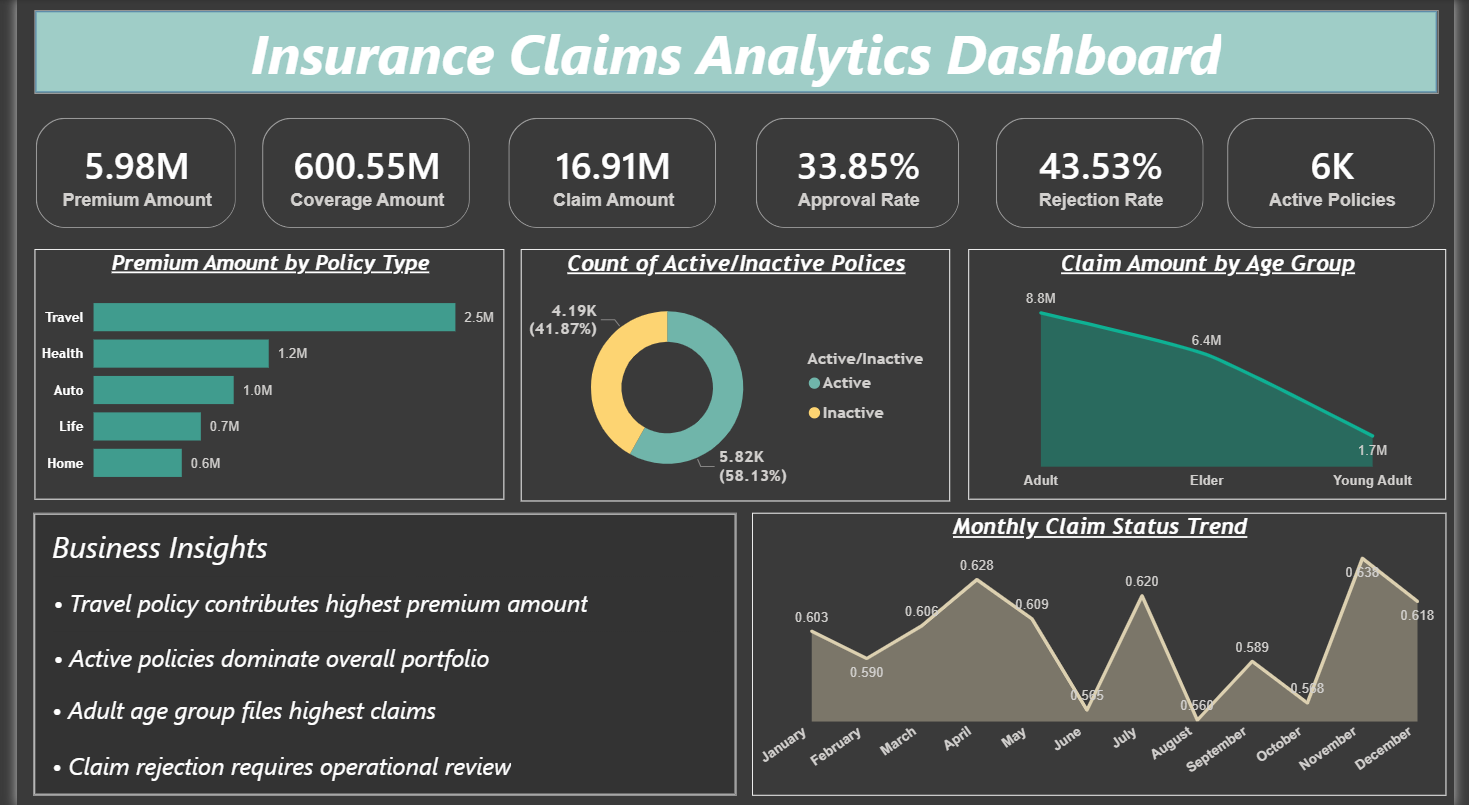

This screenshot's page, from the dashboard's own definition file:
{"tool":"powerbi","page":{"name":"Overview","canvas":[1280,720],"ordinal":0},"visuals":[{"type":"shape","box":[15.1,10.5,1250,74.4],"z":0},{"type":"cardVisual","fields":{"Data":["Sum(InsuranceData.PremiumAmount)"]},"box":[0,89.5,212.8,132.6],"z":1000},{"type":"cardVisual","fields":{"Data":["Sum(InsuranceData.ClaimAmount)"]},"box":[420.9,89.5,219.8,132.6],"z":2000},{"type":"cardVisual","fields":{"Data":["Sum(InsuranceData.CoverageAmount)"]},"box":[201.2,89.5,219.8,132.6],"z":3000},{"type":"cardVisual","fields":{"Data":["Measures Table.Claim Approval Rate"]},"box":[640.7,89.5,215.1,132.6],"z":4000},{"type":"cardVisual","fields":{"Data":["Measures Table.Active Policies"]},"box":[1060.5,89.5,219.8,132.6],"z":5000},{"type":"cardVisual","fields":{"Data":["Measures Table.Claim Rejection Rate"]},"box":[854.7,89.5,219.8,132.6],"z":6000},{"type":"barChart","title":"Premium Amount by Policy Type","fields":{"Y":["Sum(InsuranceData.PremiumAmount)"],"Category":["InsuranceData.PolicyType"]},"box":[15.1,222.1,418.6,223.3],"z":7000},{"type":"donutChart","title":"Count of Active/Inactive Polices","fields":{"Category":["InsuranceData.Active/Inactive"],"Y":["CountNonNull(InsuranceData.Active/Inactive)"]},"box":[448.8,222.1,382.6,224.4],"z":8000},{"type":"lineChart","title":"Claim Amount by Age Group","fields":{"Category":["InsuranceData.Age Group"],"Y":["Sum(InsuranceData.ClaimAmount)"]},"box":[847.7,222.1,425.6,223.3],"z":9000},{"type":"lineChart","title":"Monthly Claim Status Trend","fields":{"Y":["Measures Table.Claim Approval Rate"],"Category":["InsuranceData.ClaimDate.Variation.Date Hierarchy.Month"]},"box":[654.7,457,618.6,252.3],"z":10000},{"type":"shape","box":[14,457,626.7,252.3],"z":11000},{"type":"shape","box":[31.4,660.5,594.2,44.2],"z":11001},{"type":"shape","box":[31.4,464,594.2,44.2],"z":11002},{"type":"shape","box":[32.6,514,594.2,44.2],"z":11003},{"type":"shape","box":[32.6,562.8,594.2,44.2],"z":11004},{"type":"shape","box":[31.4,610.5,594.2,44.2],"z":11005}]}

Visuals, with their boxes in screenshot pixels (x1, y1, x2, y2), scaled from the page's 1280x720 canvas onto the 1469x805 screenshot:
shape: [17, 12, 1452, 95]
cardVisual - Sum(InsuranceData.PremiumAmount): [0, 100, 244, 248]
cardVisual - Sum(InsuranceData.ClaimAmount): [483, 100, 735, 248]
cardVisual - Sum(InsuranceData.CoverageAmount): [231, 100, 483, 248]
cardVisual - Measures Table.Claim Approval Rate: [735, 100, 982, 248]
cardVisual - Measures Table.Active Policies: [1217, 100, 1468, 248]
cardVisual - Measures Table.Claim Rejection Rate: [981, 100, 1233, 248]
"Premium Amount by Policy Type" barChart: [17, 248, 498, 498]
"Count of Active/Inactive Polices" donutChart: [515, 248, 954, 499]
"Claim Amount by Age Group" lineChart: [973, 248, 1461, 498]
"Monthly Claim Status Trend" lineChart: [751, 511, 1461, 793]
shape: [16, 511, 735, 793]
shape: [36, 738, 718, 788]
shape: [36, 519, 718, 568]
shape: [37, 575, 719, 624]
shape: [37, 629, 719, 679]
shape: [36, 683, 718, 732]
